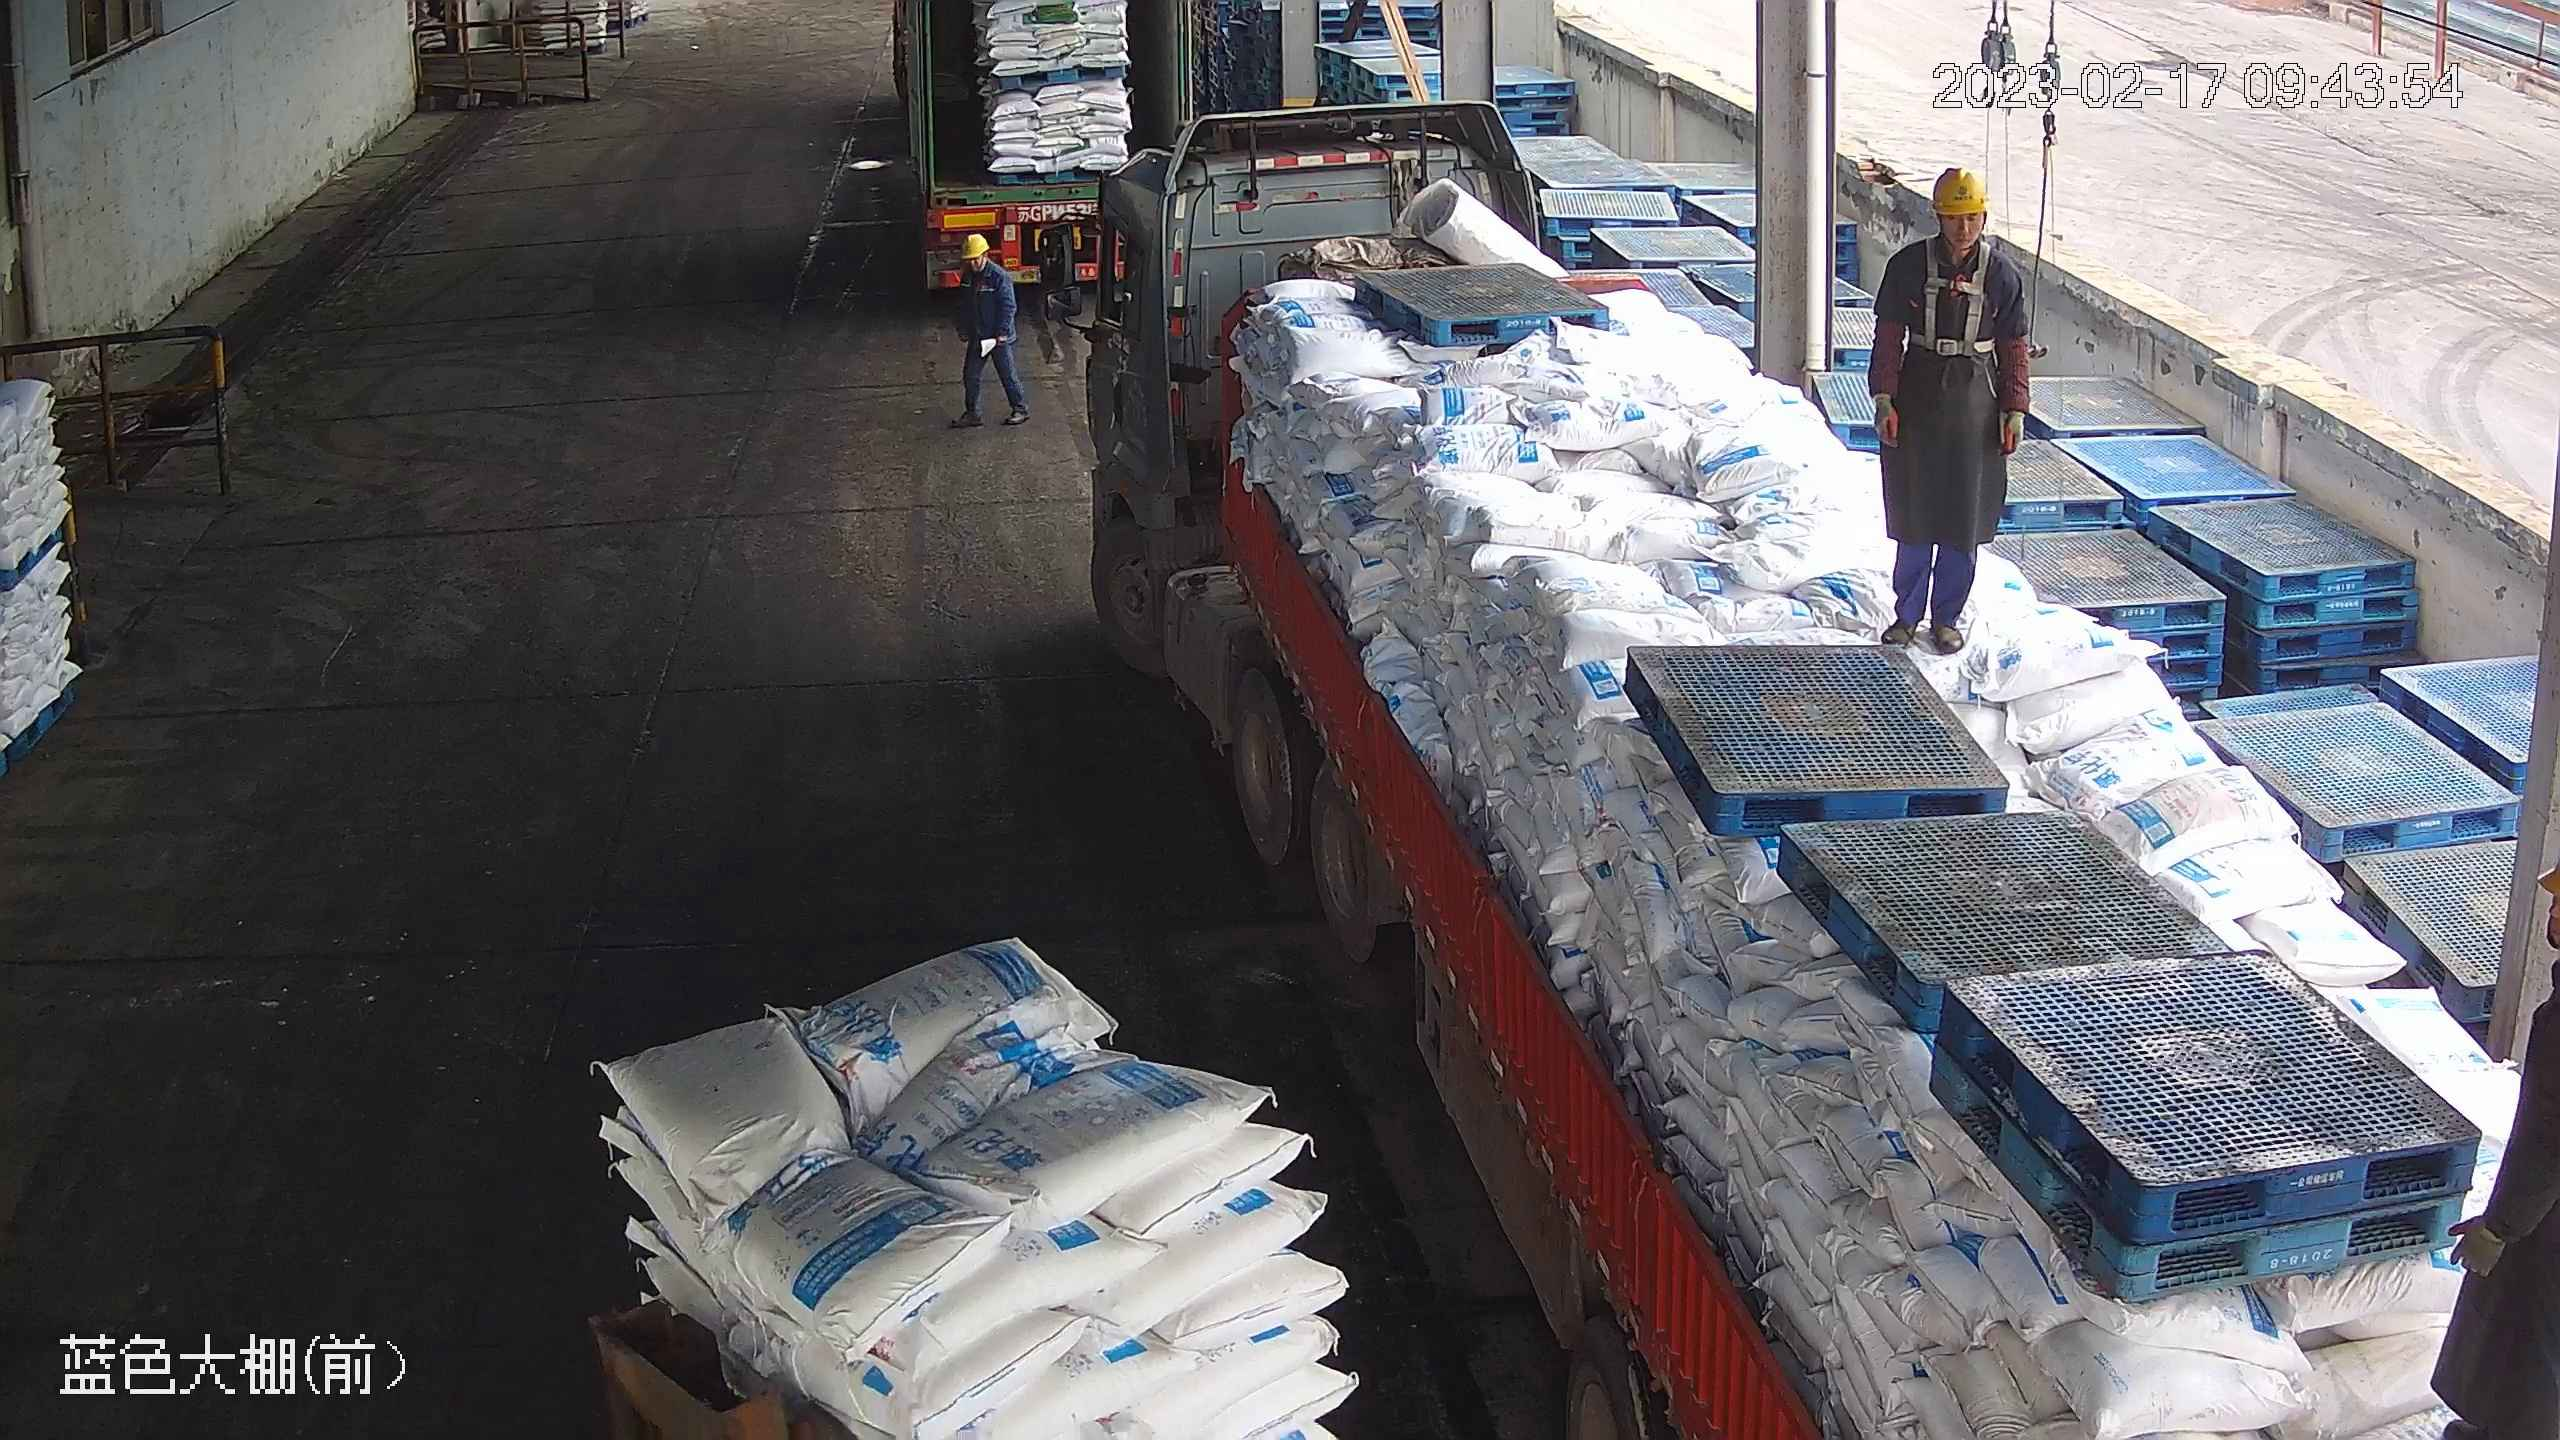belt: (1911, 229, 2005, 357)
head: (1878, 163, 2026, 300), (949, 234, 1011, 304)
helmet: (1928, 160, 1991, 217), (960, 233, 992, 260)
people: (1861, 159, 2035, 658), (944, 231, 1021, 434)
truck: (1065, 113, 2553, 1440), (890, 4, 1223, 271)
